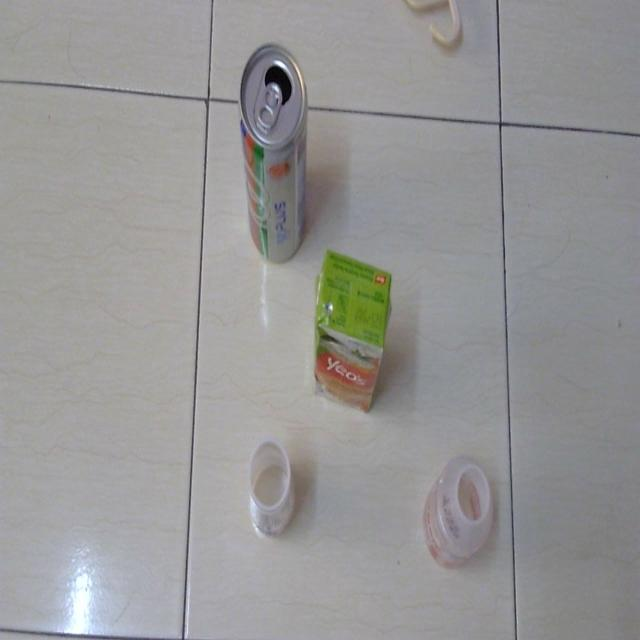metal_standrotation: (236, 38, 312, 266)
plastic_standrotation: (309, 243, 395, 422), (418, 450, 503, 583), (245, 434, 298, 547)
